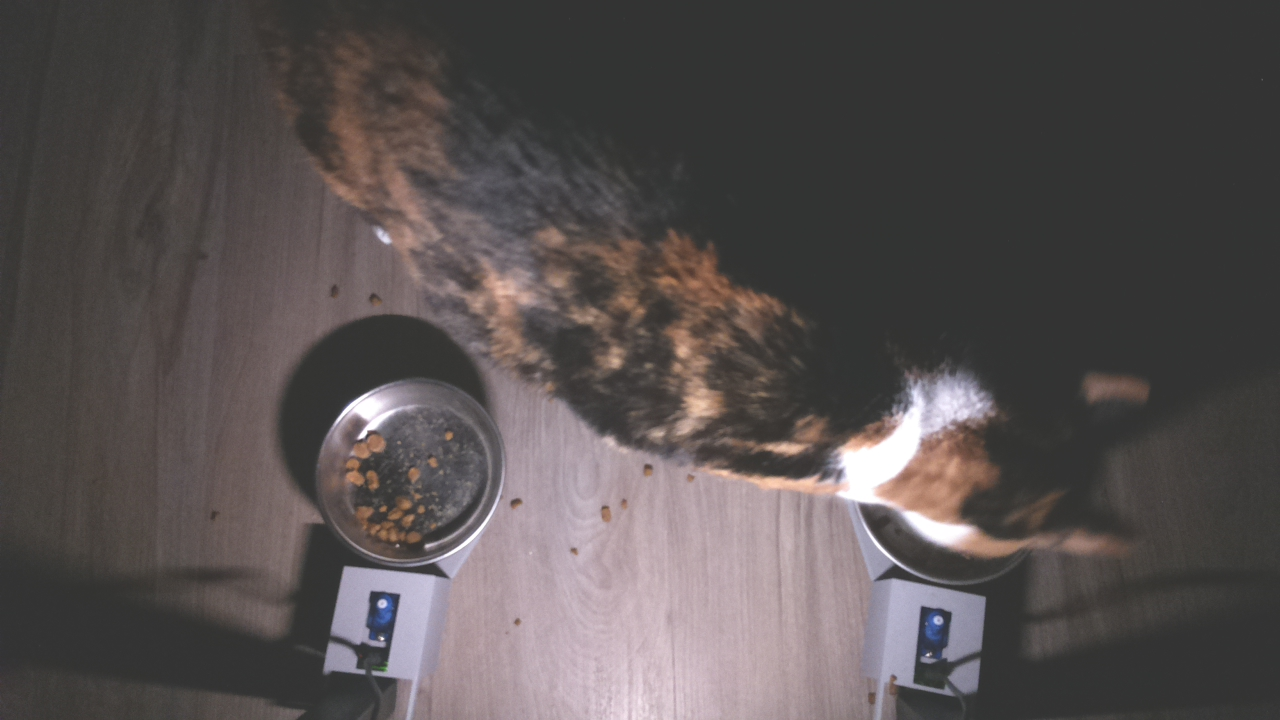bella_eating: (870, 316, 1158, 597)
open_bowl: (307, 366, 514, 572)
